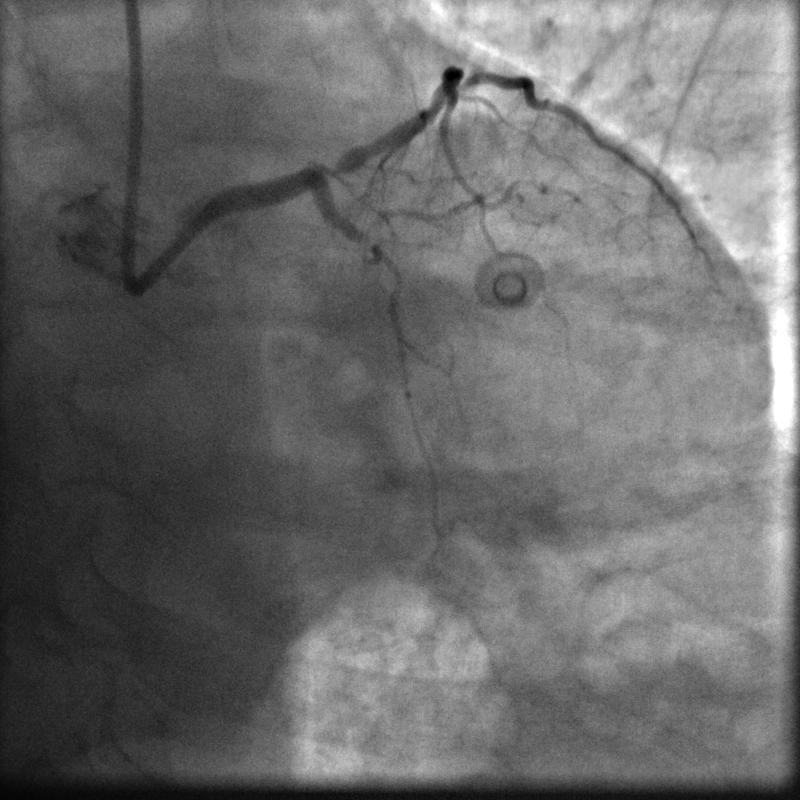Stenosis: (310, 154, 351, 176)
